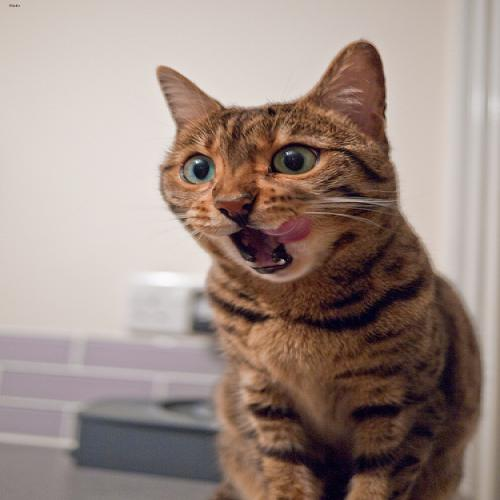bengal: (143, 36, 405, 292)
